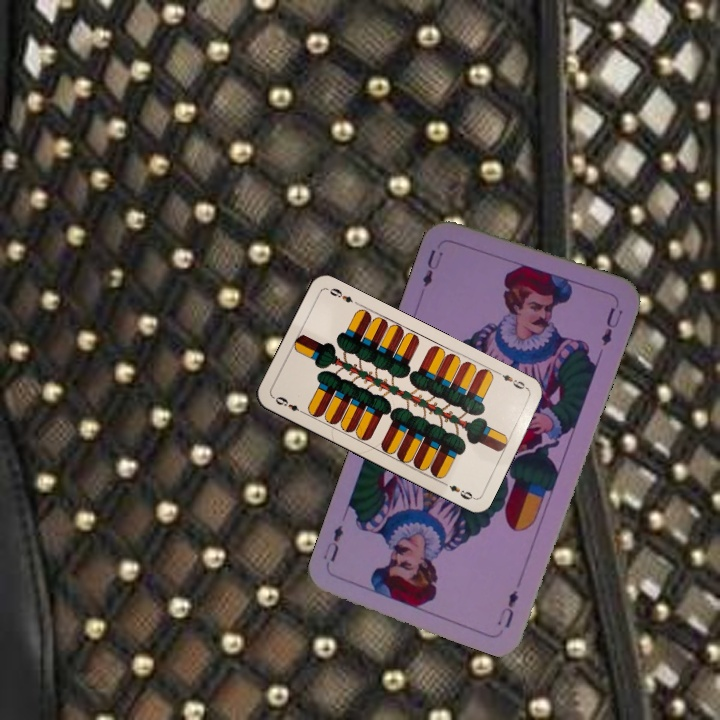E9: (493, 368, 531, 392), (271, 393, 307, 417)
EU: (493, 585, 521, 631), (418, 245, 446, 290)
